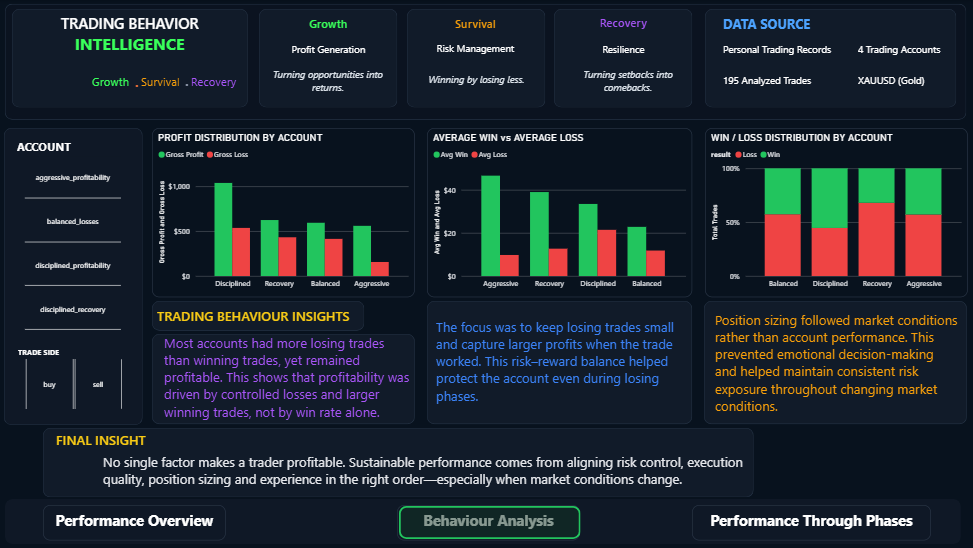

The page's visual inventory and layout, read from the dashboard file:
{"tool":"powerbi","page":{"name":"Behaviour Analysis","canvas":[1600,900],"ordinal":1},"visuals":[{"type":"shape","box":[10,3.6,1579.5,195.6],"z":0},{"type":"shape","box":[25.4,14.5,385.8,161.2],"z":1000},{"type":"shape","box":[429.3,14.5,226.4,161.2],"z":2000},{"type":"shape","box":[670.2,14.5,226.4,161.2],"z":3000},{"type":"shape","box":[911.1,14.5,226.4,161.2],"z":4000},{"type":"shape","box":[1159.2,14.5,411.2,161.2],"z":5000},{"type":"shape","box":[10.8,208.8,226.8,486],"z":6000},{"type":"textbox","box":[25.2,16.2,385.2,54],"z":7000},{"type":"textbox","box":[25.2,46.8,385.2,48.6],"z":8000},{"type":"shape","box":[12.6,817.2,1564.2,73.8],"z":9000},{"type":"textbox","box":[150.3,115.9,74.3,38],"z":10000},{"type":"textbox","box":[230,115.9,74.3,38],"z":11000},{"type":"textbox","box":[313.4,115.9,85.1,38],"z":12000},{"type":"textbox","box":[302.5,123.2,16.3,32.6],"z":13000},{"type":"textbox","box":[221,125,16.3,32.6],"z":14000},{"type":"textbox","box":[428.4,21.6,226.8,37.8],"z":15000},{"type":"textbox","box":[669.6,21.6,226.8,37.8],"z":16000},{"type":"textbox","box":[910.8,19.8,226.8,39.6],"z":17000},{"type":"textbox","box":[428.4,64.8,226.8,34.2],"z":18000},{"type":"textbox","box":[669.6,63,226.8,34.2],"z":19000},{"type":"textbox","box":[910.8,64.8,226.8,34.2],"z":20000},{"type":"textbox","box":[442,106.9,199.2,58],"z":21000},{"type":"textbox","box":[684.7,114.1,201.1,52.5],"z":22000},{"type":"textbox","box":[940.1,106.9,186.6,56.2],"z":23000},{"type":"textbox","box":[1182.8,19.9,157.6,41.7],"z":24000},{"type":"textbox","box":[1182.8,65.2,195.6,30.8],"z":25000},{"type":"textbox","box":[1182.8,115.9,172.1,34.4],"z":26000},{"type":"textbox","box":[1403.8,65.2,172.1,34.4],"z":27000},{"type":"textbox","box":[1403.8,115.9,172.1,34.4],"z":28000},{"type":"slicer","fields":{"Values":["fact_trades.a/c_name"]},"box":[19.8,223.2,207,324],"z":29000},{"type":"slicer","fields":{"Values":["fact_trades.side"]},"box":[21.6,563.4,207,113.4],"z":30000},{"type":"textbox","box":[75.6,826.2,298.8,57.6],"z":31000},{"type":"textbox","box":[655.2,826.2,298.8,57.6],"z":32000},{"type":"textbox","box":[1137.6,826.2,390.6,57.6],"z":33000},{"type":"clusteredColumnChart","title":"PROFIT DISTRIBUTION BY ACCOUNT","fields":{"Category":["fact_trades.Display Account"],"Y":["fact_trades.Gross Profit","fact_trades.Gross Loss"]},"box":[253.8,208.8,430.2,277.2],"z":34000},{"type":"clusteredColumnChart","title":"AVERAGE WIN vs AVERAGE LOSS","fields":{"Category":["fact_trades.Display Account"],"Y":["fact_trades.Avg Win","fact_trades.Avg Loss"]},"box":[703.8,208.8,433.8,277.2],"z":35000},{"type":"hundredPercentStackedColumnChart","title":"WIN / LOSS DISTRIBUTION BY ACCOUNT","fields":{"Category":["fact_trades.Display Account"],"Y":["fact_trades.Total Trades"],"Series":["fact_trades.result"]},"box":[1159.2,208.8,430.2,277.2],"z":36000},{"type":"shape","box":[253.8,547.2,430.2,147.6],"z":37000},{"type":"textbox","box":[268.2,541.8,417.6,158.4],"z":38000},{"type":"shape","box":[703.8,493.2,433.8,201.6],"z":39000},{"type":"textbox","box":[712.8,514.8,417.6,180],"z":40000},{"type":"shape","box":[1157.4,493.2,430.2,201.6],"z":41000},{"type":"textbox","box":[1170,504,406.8,178.2],"z":42000},{"type":"shape","box":[75.6,700.2,1162.8,113.4],"z":43000},{"type":"textbox","box":[169.2,736.2,1069.2,77.4],"z":44000},{"type":"textbox","box":[91.8,700.2,250.2,70.2],"z":45000},{"type":"shape","box":[253.8,493.2,347.4,48.6],"z":46000},{"type":"textbox","box":[257.4,478.8,369,77.4],"z":47000},{"type":"actionButton","box":[75.6,828,298.8,54],"z":48000},{"type":"actionButton","box":[657,828,297,54],"z":49000},{"type":"actionButton","box":[1137.6,828,390.6,54],"z":50000}]}

Visuals, with their boxes in screenshot pixels (x1, y1, x2, y2), scaled from the page's 1600x900 canvas onto the 973x548 screenshot:
shape: BBox(6, 2, 967, 121)
shape: BBox(15, 9, 250, 107)
shape: BBox(261, 9, 399, 107)
shape: BBox(408, 9, 545, 107)
shape: BBox(554, 9, 692, 107)
shape: BBox(705, 9, 955, 107)
shape: BBox(7, 127, 144, 423)
textbox: BBox(15, 10, 250, 43)
textbox: BBox(15, 28, 250, 58)
shape: BBox(8, 498, 959, 543)
textbox: BBox(91, 71, 137, 94)
textbox: BBox(140, 71, 185, 94)
textbox: BBox(191, 71, 242, 94)
textbox: BBox(184, 75, 194, 95)
textbox: BBox(134, 76, 144, 96)
textbox: BBox(261, 13, 398, 36)
textbox: BBox(407, 13, 545, 36)
textbox: BBox(554, 12, 692, 36)
textbox: BBox(261, 39, 398, 60)
textbox: BBox(407, 38, 545, 59)
textbox: BBox(554, 39, 692, 60)
textbox: BBox(269, 65, 390, 100)
textbox: BBox(416, 69, 539, 101)
textbox: BBox(572, 65, 685, 99)
textbox: BBox(719, 12, 815, 38)
textbox: BBox(719, 40, 838, 58)
textbox: BBox(719, 71, 824, 92)
textbox: BBox(854, 40, 958, 61)
textbox: BBox(854, 71, 958, 92)
slicer - fact_trades.a/c_name: BBox(12, 136, 138, 333)
slicer - fact_trades.side: BBox(13, 343, 139, 412)
textbox: BBox(46, 503, 228, 538)
textbox: BBox(398, 503, 580, 538)
textbox: BBox(692, 503, 929, 538)
"PROFIT DISTRIBUTION BY ACCOUNT" clusteredColumnChart: BBox(154, 127, 416, 296)
"AVERAGE WIN vs AVERAGE LOSS" clusteredColumnChart: BBox(428, 127, 692, 296)
"WIN / LOSS DISTRIBUTION BY ACCOUNT" hundredPercentStackedColumnChart: BBox(705, 127, 967, 296)
shape: BBox(154, 333, 416, 423)
textbox: BBox(163, 330, 417, 426)
shape: BBox(428, 300, 692, 423)
textbox: BBox(433, 313, 687, 423)
shape: BBox(704, 300, 965, 423)
textbox: BBox(712, 307, 959, 415)
shape: BBox(46, 426, 753, 495)
textbox: BBox(103, 448, 753, 495)
textbox: BBox(56, 426, 208, 469)
shape: BBox(154, 300, 366, 330)
textbox: BBox(157, 292, 381, 339)
actionButton: BBox(46, 504, 228, 537)
actionButton: BBox(400, 504, 580, 537)
actionButton: BBox(692, 504, 929, 537)
